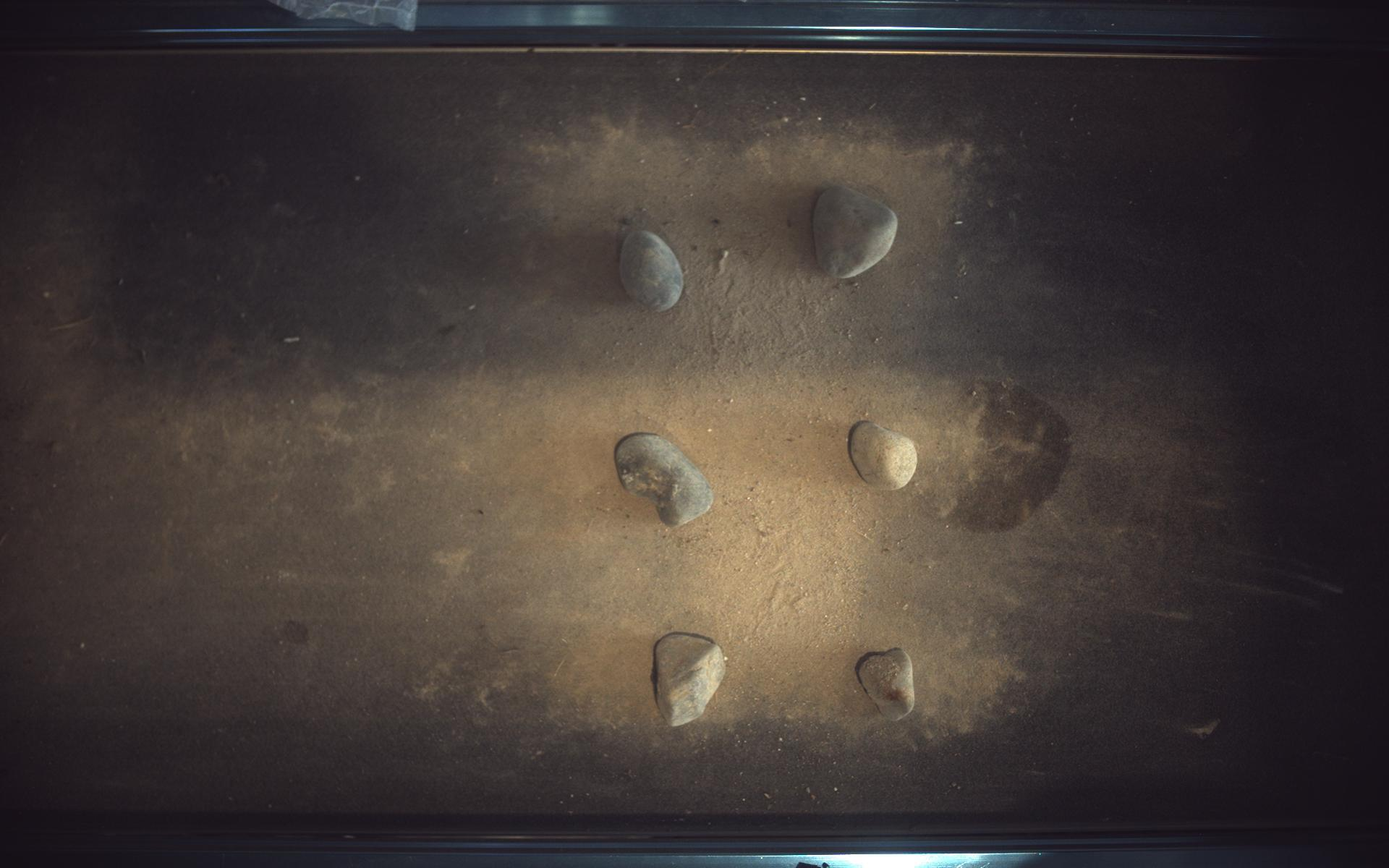stone: (615, 433, 715, 527), (815, 185, 899, 278), (653, 634, 727, 728), (621, 230, 684, 311), (849, 421, 919, 491), (857, 649, 917, 723)
